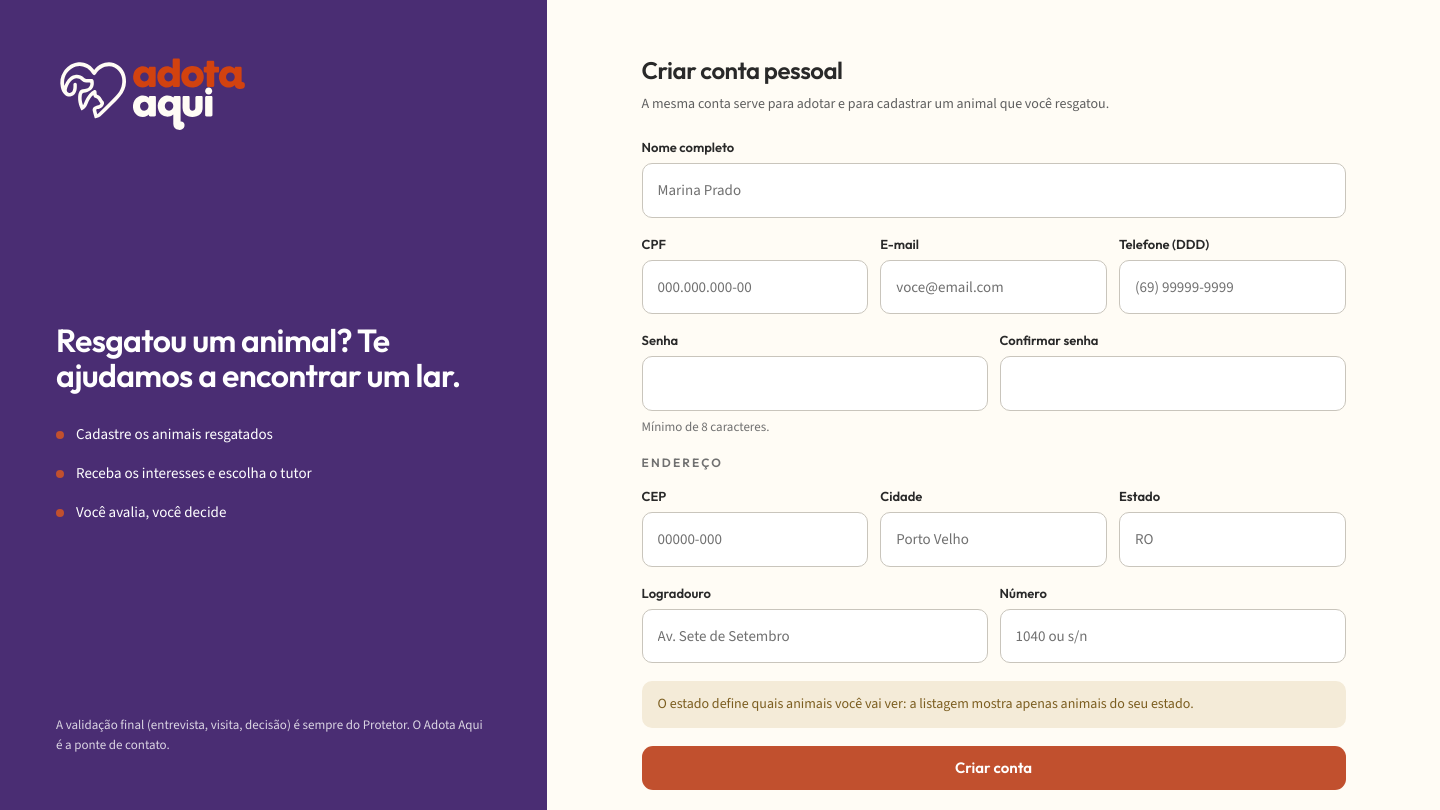
Scenario: cadastro de pessoa física › o CEP preenche cidade, estado e logradouro
In the field labelled "CEP": (755, 540) [642,512,868,567], type "76801000"
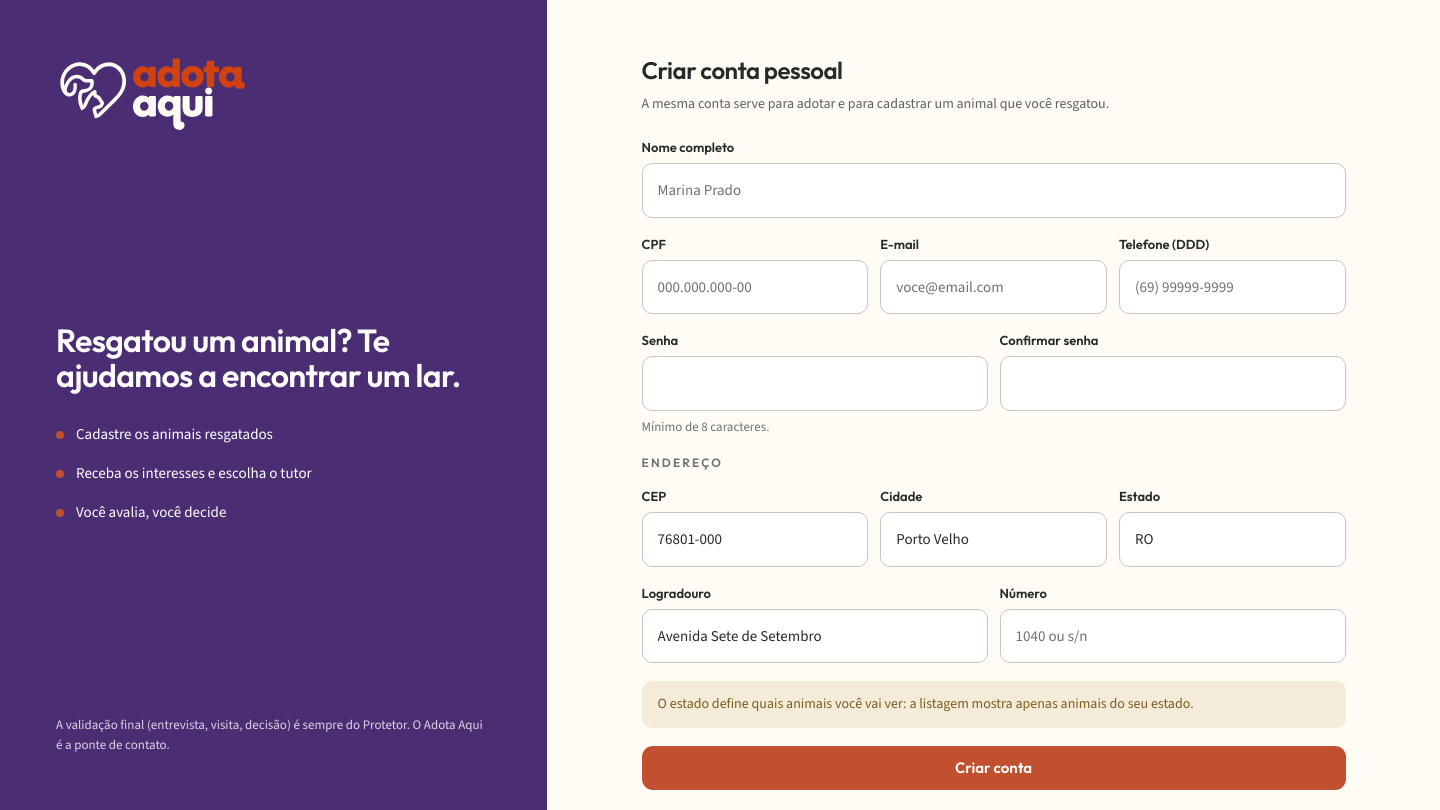
Check: the field labelled "Estado" holds "RO", box [1119,512,1346,567]
Check: the field labelled "Logradouro" holds "Avenida Sete de Setembro", box [642,609,988,664]
Check: the field labelled "CEP" holds "76801-000", box [642,512,868,567]
